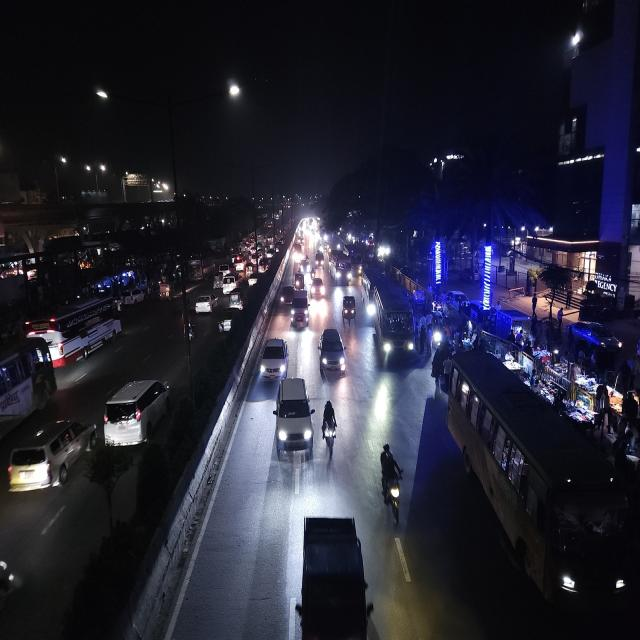bus: (448, 346, 636, 624), (23, 296, 123, 366), (0, 337, 58, 444), (370, 275, 419, 368), (328, 248, 352, 288), (190, 258, 214, 281)
car: (3, 414, 97, 499), (102, 373, 174, 452), (274, 374, 314, 460), (319, 324, 347, 380), (260, 333, 288, 385), (290, 288, 310, 331), (194, 288, 222, 316), (276, 283, 294, 310), (310, 274, 326, 300), (222, 274, 237, 295), (233, 255, 246, 272), (300, 260, 310, 275)
cng: (342, 294, 357, 325), (228, 289, 245, 313), (293, 270, 305, 290), (213, 273, 222, 289), (245, 264, 253, 278)
motorcycle: (378, 439, 404, 526), (321, 397, 339, 458)
pedestrian: (433, 348, 441, 394), (418, 322, 427, 357), (444, 354, 450, 389), (426, 324, 432, 358)
pickup_van: (293, 510, 376, 640)
